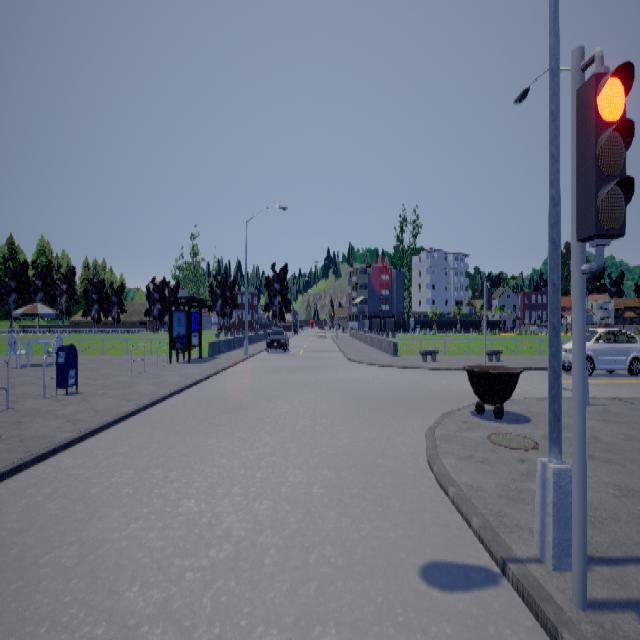red_light: (575, 45, 634, 273)
vehicle: (559, 325, 639, 374), (265, 327, 288, 350)
